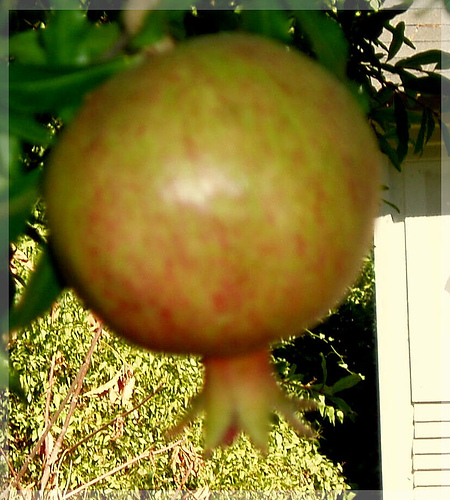pomogranate: (43, 30, 383, 458)
